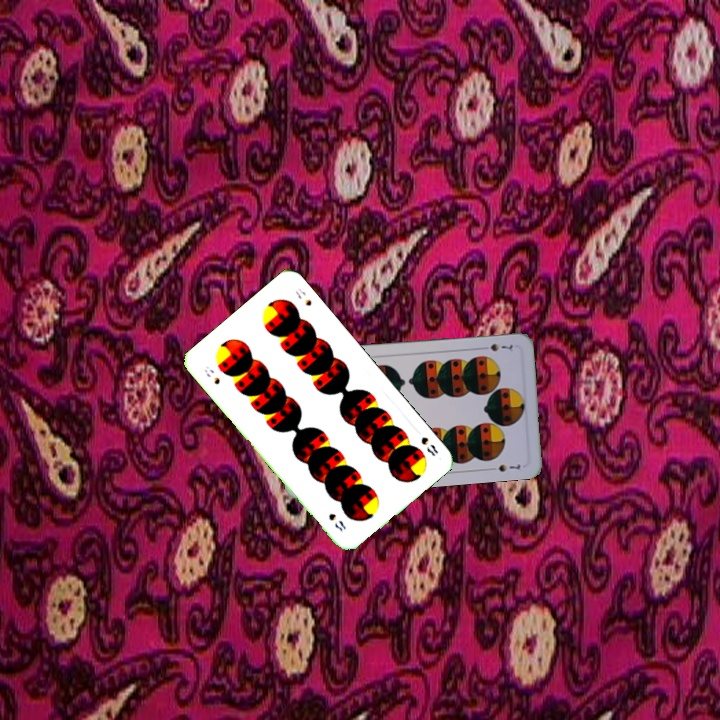S7: (477, 339, 515, 354)
S8: (417, 433, 441, 459), (200, 362, 223, 387)
